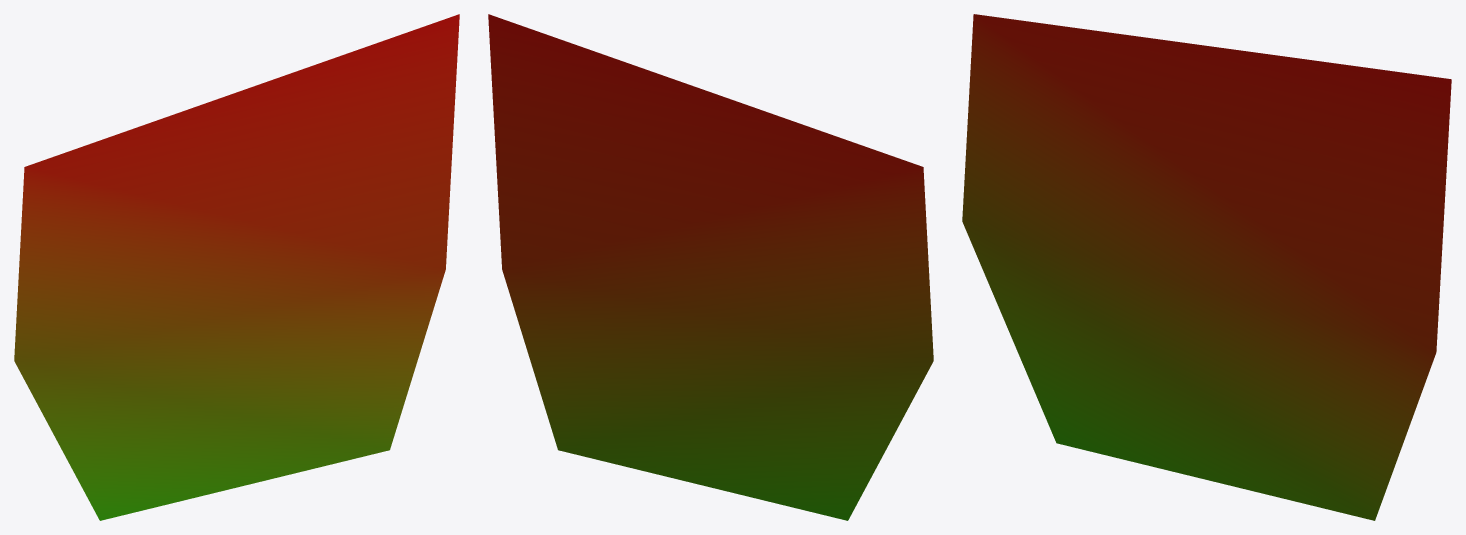
The model's file is Basket Grass_LOD4_Var4_slfpffjr.fbx.
The picture shows the model from 3 angles, left to right: view 1: azimuth 30°, elevation 25°; view 2: azimuth 150°, elevation 25°; view 3: azimuth 330°, elevation 25°; orthographic projection. The views are drawn at different scales.
Visible parts, largest first — view 1: _86f3_Var4_LOD4; view 2: _86f3_Var4_LOD4; view 3: _86f3_Var4_LOD4.
Boxes of the visible parts, <box> form: _86f3_Var4_LOD4: <box>14,14,459,520</box>; _86f3_Var4_LOD4: <box>488,14,933,520</box>; _86f3_Var4_LOD4: <box>962,14,1451,520</box>.
Bounding box in the file's own units: 83.36 × 74.93 × 1.43e-06.
